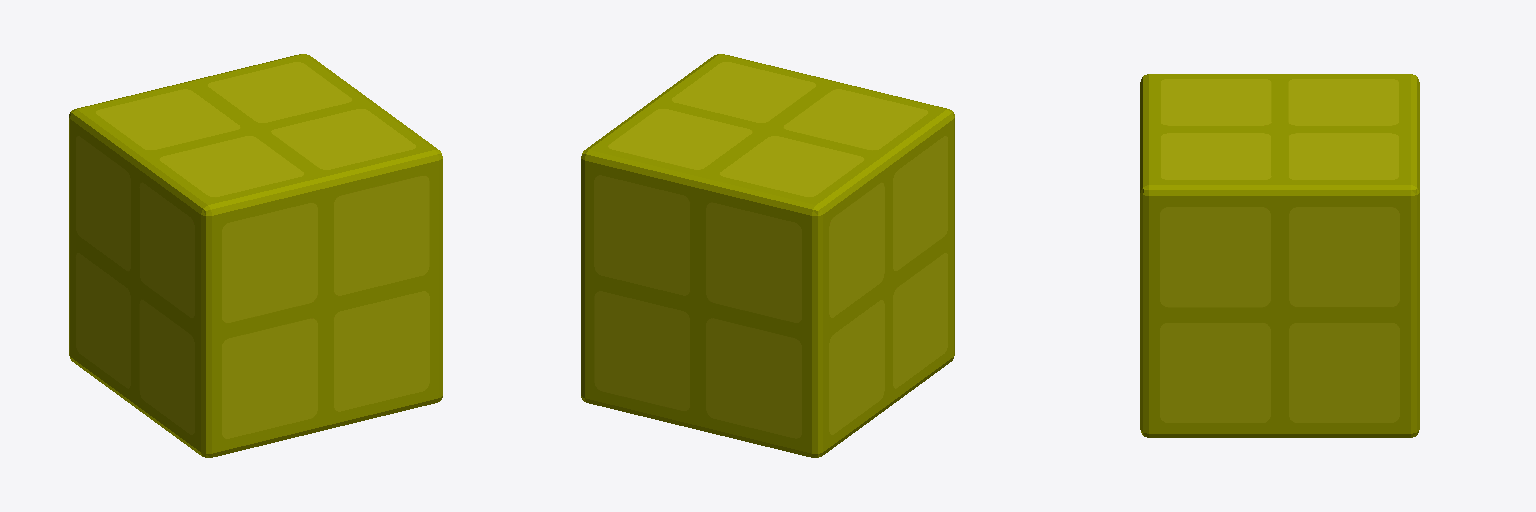
The picture shows the model from 3 angles: view 1: azimuth 30°, elevation 25°; view 2: azimuth 150°, elevation 25°; view 3: azimuth 270°, elevation 25°; orthographic projection.
Visible parts, largest first — view 1: pCube5_Mesh.006; view 2: pCube5_Mesh.006; view 3: pCube5_Mesh.006.
Boxes of the visible parts, box(x1,y1,x2,y2) form: pCube5_Mesh.006: box(69, 54, 442, 457); pCube5_Mesh.006: box(581, 54, 954, 457); pCube5_Mesh.006: box(1140, 74, 1419, 437).
Bounding box in the file's own units: 2 × 2 × 2.
Materials: 1 (1 with a texture image).